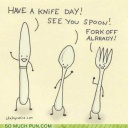fork: (87, 44, 111, 119)
